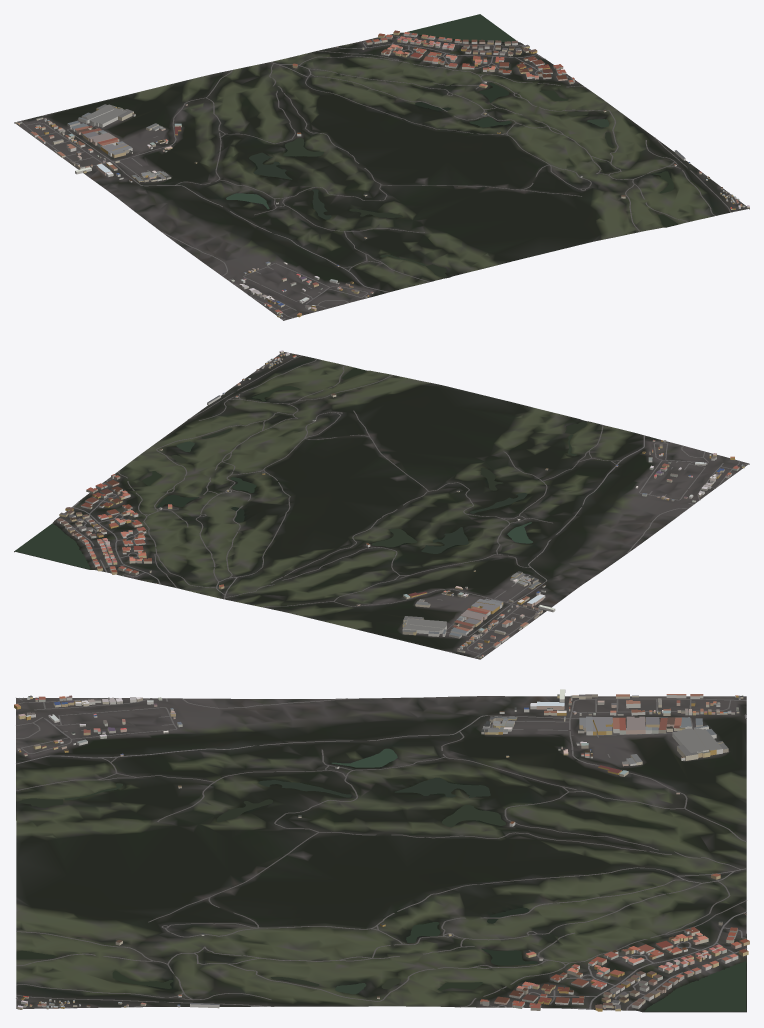
The picture shows the model from 3 angles, top to bottom: view 1: azimuth 30°, elevation 25°; view 2: azimuth 150°, elevation 25°; view 3: azimuth 270°, elevation 25°; orthographic projection. The views are drawn at different scales.
Parts seen in each view (by area): view 1: ground, buildings, roads, water; view 2: ground, buildings, roads, water; view 3: ground, buildings, roads, water.
Part boxes in pixels (x1=…): ground: x1=14, y1=32, x2=749, y2=320; buildings: x1=15, y1=30, x2=749, y2=317; roads: x1=20, y1=35, x2=735, y2=320; water: x1=226, y1=14, x2=678, y2=276; ground: x1=14, y1=352, x2=749, y2=659; buildings: x1=56, y1=350, x2=744, y2=658; roads: x1=58, y1=354, x2=748, y2=658; water: x1=15, y1=367, x2=586, y2=569; ground: x1=16, y1=696, x2=746, y2=1012; buildings: x1=14, y1=689, x2=749, y2=1011; roads: x1=16, y1=697, x2=746, y2=1010; water: x1=16, y1=748, x2=746, y2=1011.
Size of the model in its own units: 1430 by 30.1 by 1411.
